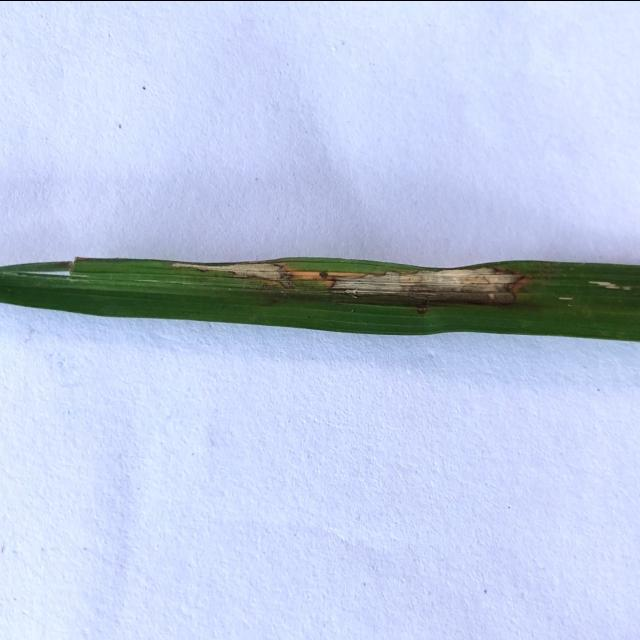Leaf Blight: (175, 257, 537, 301), (588, 279, 632, 290)
